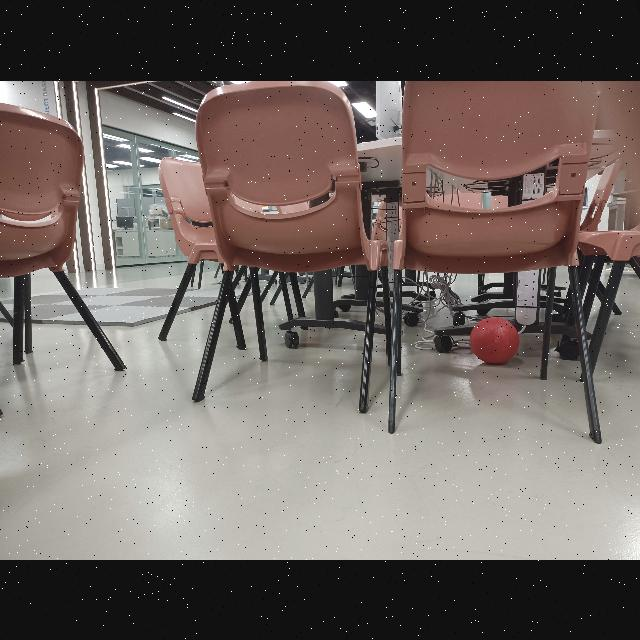R: (469, 317, 518, 365)
